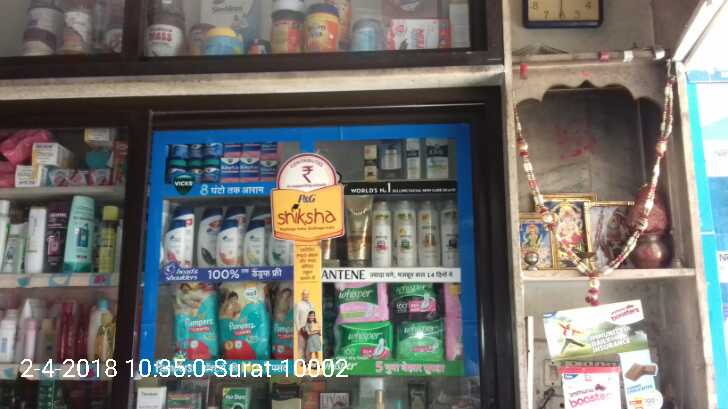vicks: (220, 157, 240, 184), (261, 158, 283, 182), (240, 157, 261, 182), (167, 161, 189, 183), (202, 160, 218, 182), (170, 142, 190, 159), (189, 160, 202, 183), (241, 142, 261, 156), (261, 142, 281, 156), (224, 142, 241, 157), (191, 141, 205, 158), (205, 141, 218, 158)
